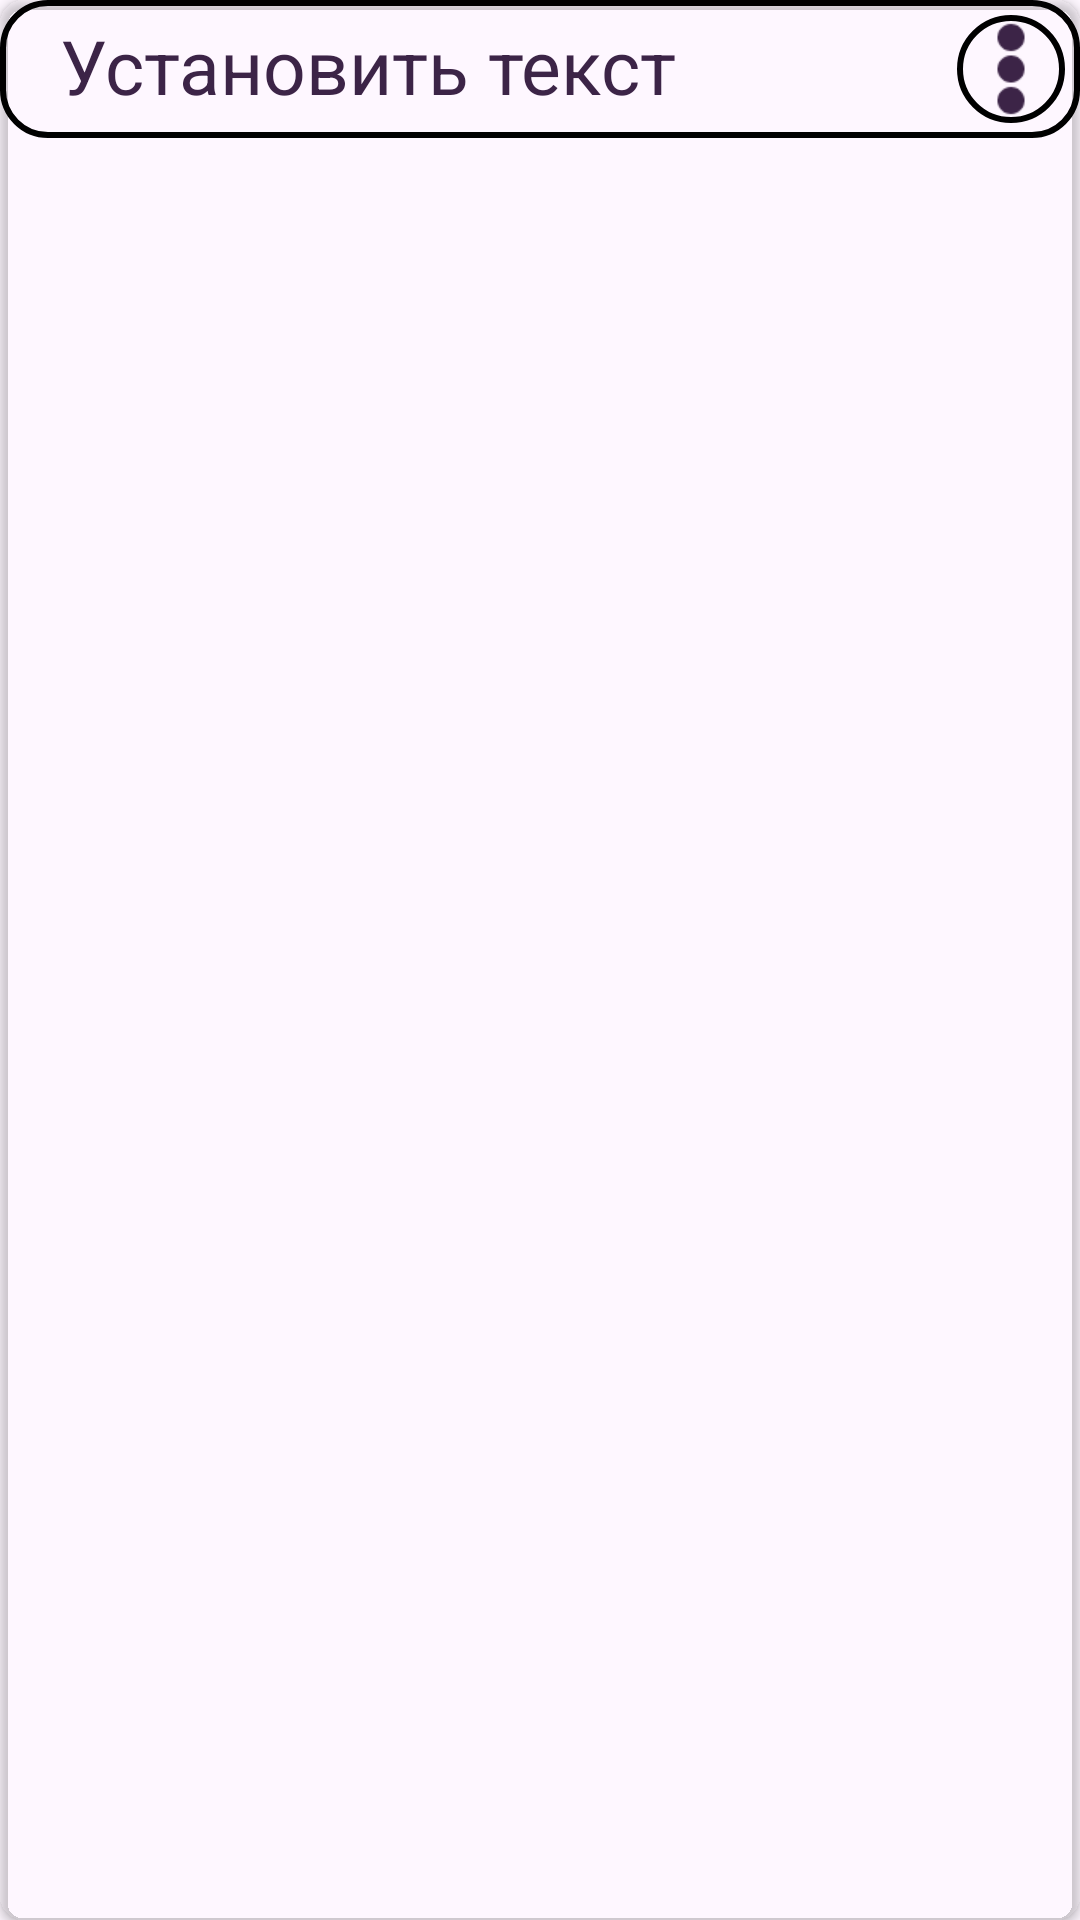

Named icons in this screenshot (1080px x 1920px) and their centers, (x=x, y=y):
menu: (x=1011, y=69)
